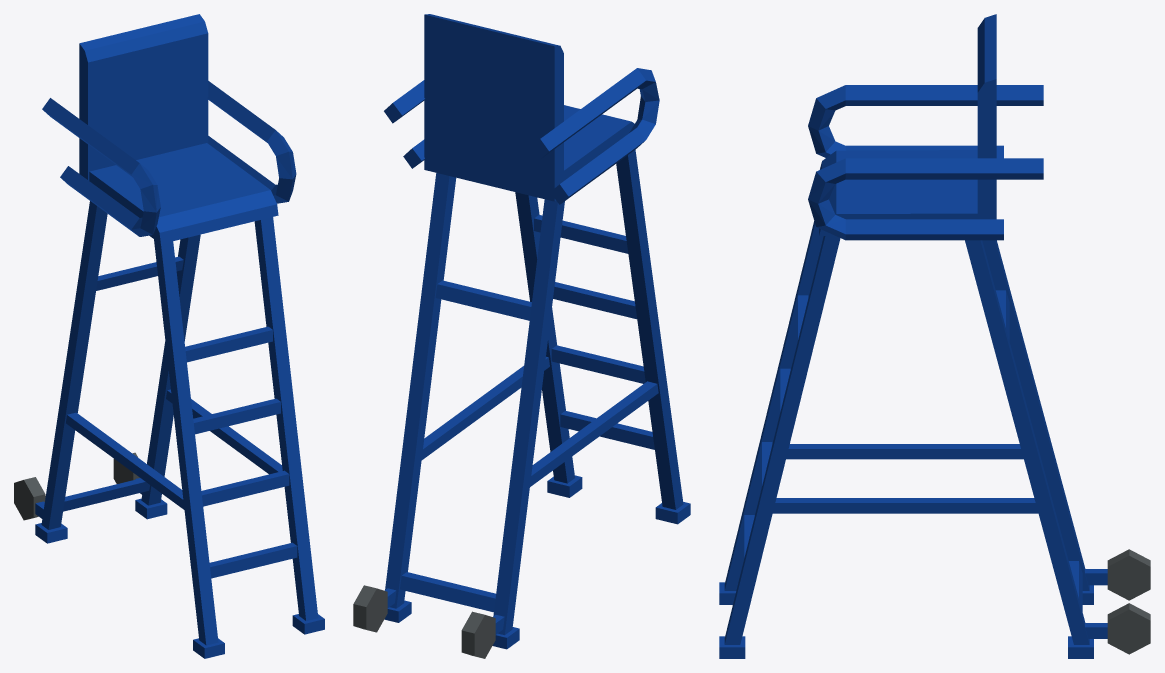
Rendered from Badminton_umpire_chair.fbx.
3 renders of one model, left to right at view 1: azimuth 30°, elevation 25°; view 2: azimuth 150°, elevation 25°; view 3: azimuth 270°, elevation 25°, orthographic. The views are drawn at different scales.
Parts seen in each view (by area): view 1: Badminton_umpire_chair; view 2: Badminton_umpire_chair; view 3: Badminton_umpire_chair.
Boxes of the visible parts, x1=… form: Badminton_umpire_chair: x1=14, y1=14, x2=324, y2=658; Badminton_umpire_chair: x1=353, y1=14, x2=690, y2=658; Badminton_umpire_chair: x1=719, y1=14, x2=1150, y2=658.
Bounding box in the file's own units: 74.84 × 246 × 166.
